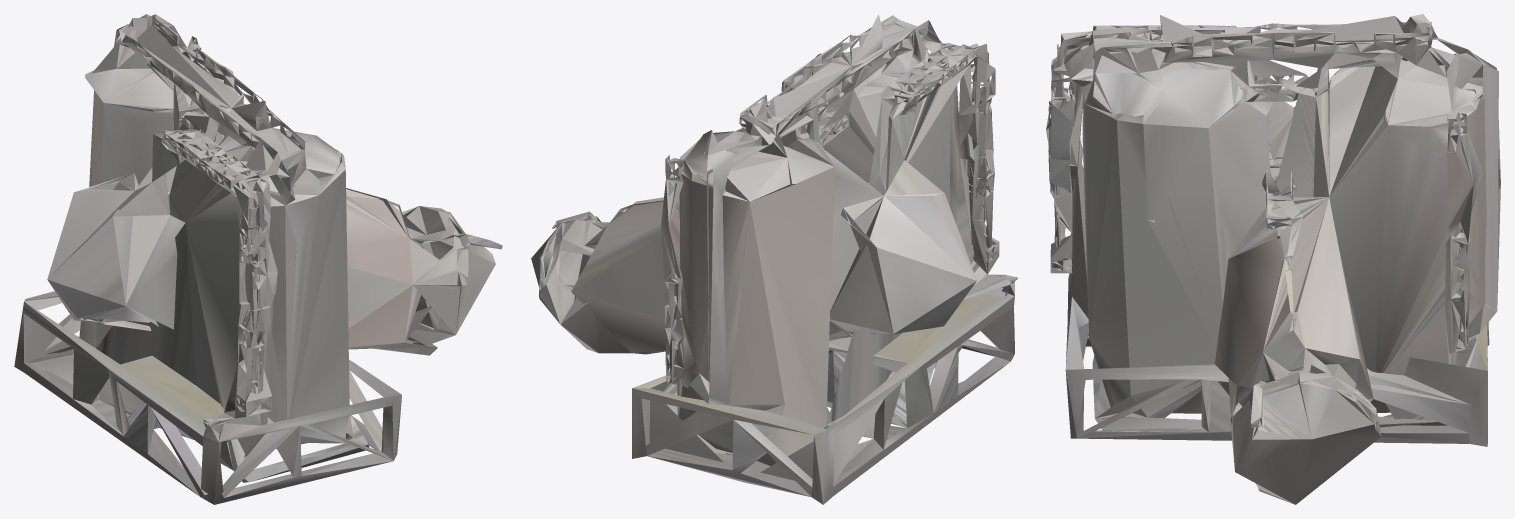
File: k02_far.glb
3 renders of one model, left to right at view 1: azimuth 30°, elevation 25°; view 2: azimuth 150°, elevation 25°; view 3: azimuth 270°, elevation 25°, orthographic. The views are drawn at different scales.
Parts seen in each view (by area): view 1: k02_far; view 2: k02_far; view 3: k02_far.
Part boxes in pixels (x1=…): k02_far: x1=14, y1=14, x2=502, y2=504; k02_far: x1=531, y1=14, x2=1017, y2=504; k02_far: x1=1046, y1=14, x2=1500, y2=504.
Bounding box in the file's own units: 18.02 × 14 × 15.08.
Materials: 1 (1 with a texture image).
